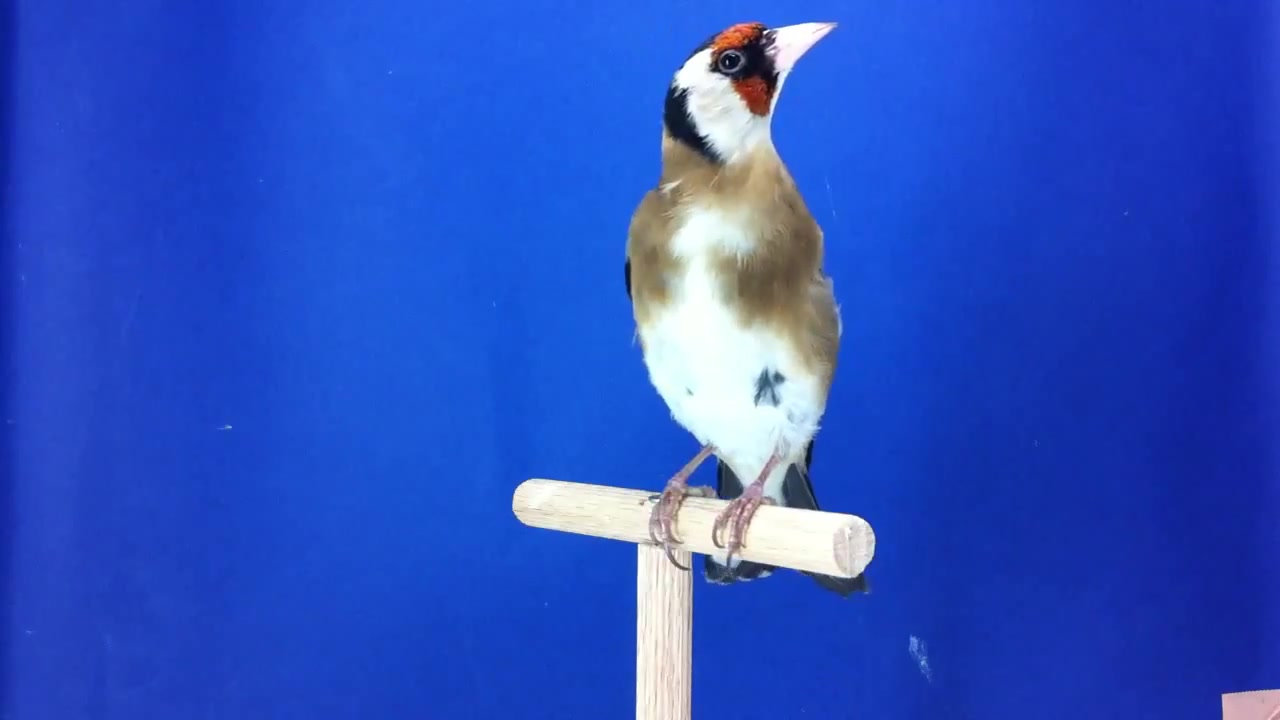bird: (626, 21, 870, 597)
